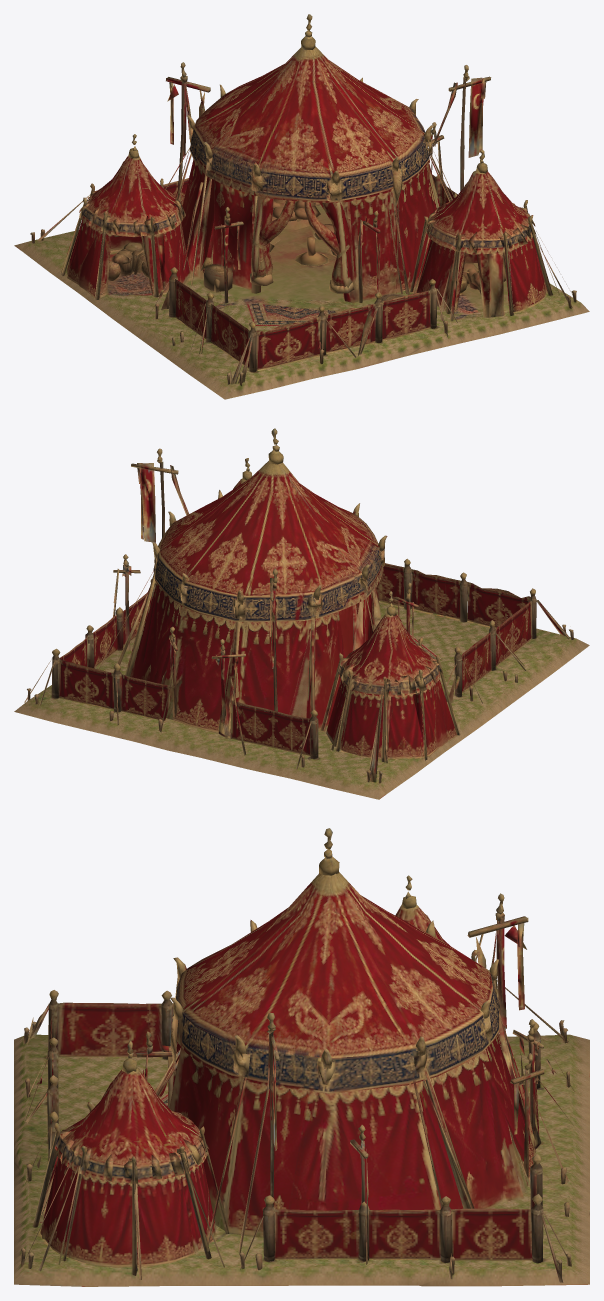
Rendered from Meshy_AI_model.glb.
3 views of the same model, one above another, from view 1: azimuth 30°, elevation 25°; view 2: azimuth 150°, elevation 25°; view 3: azimuth 270°, elevation 25° (orthographic). The views are drawn at different scales.
Bounding box in the file's own units: 1 × 0.6671 × 1.
Materials: 1 (1 with a texture image).
